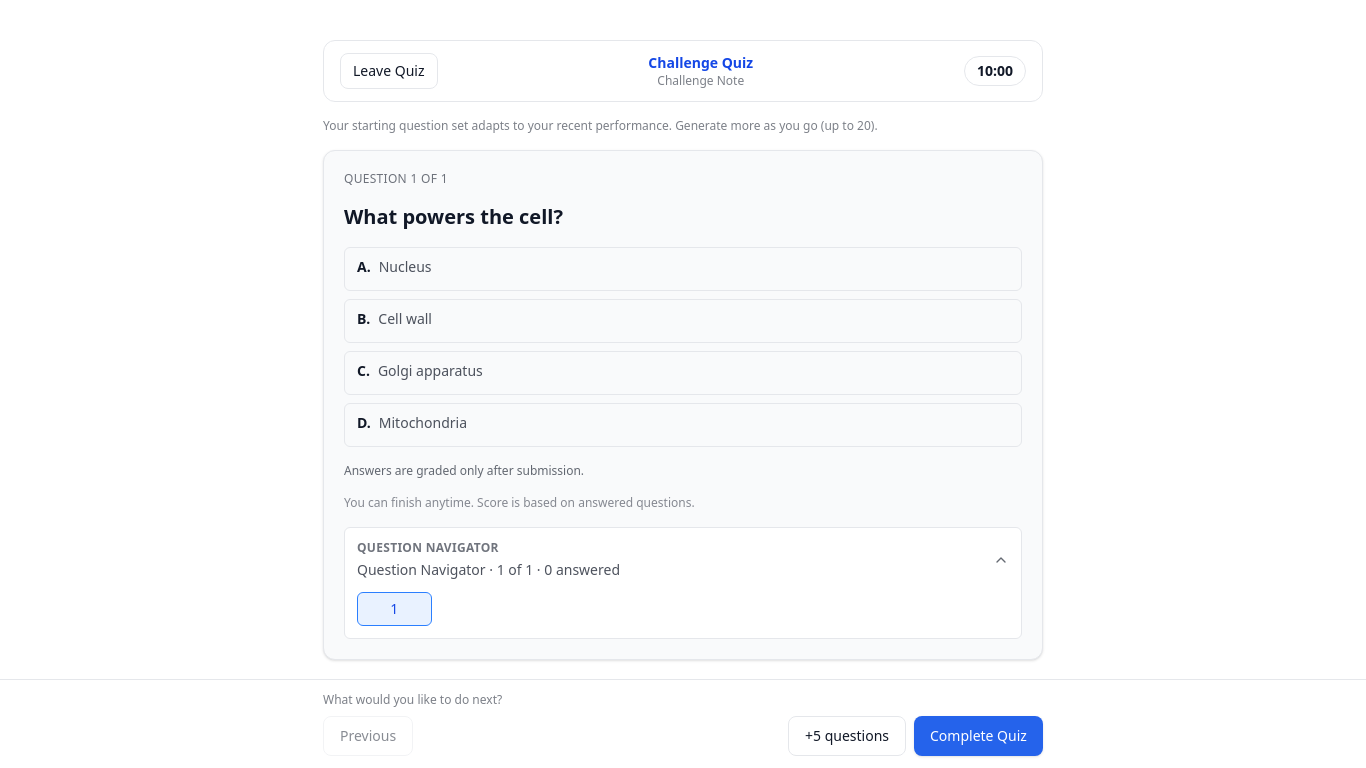
Test: ChallengeQuizPage › returns to setup when Complete reports SESSION_NOT_IN_PROGRESS
This screenshot has width=1366, height=768.
Click the button "D.Mitochondria": (423, 422) [344,403,1022,447]
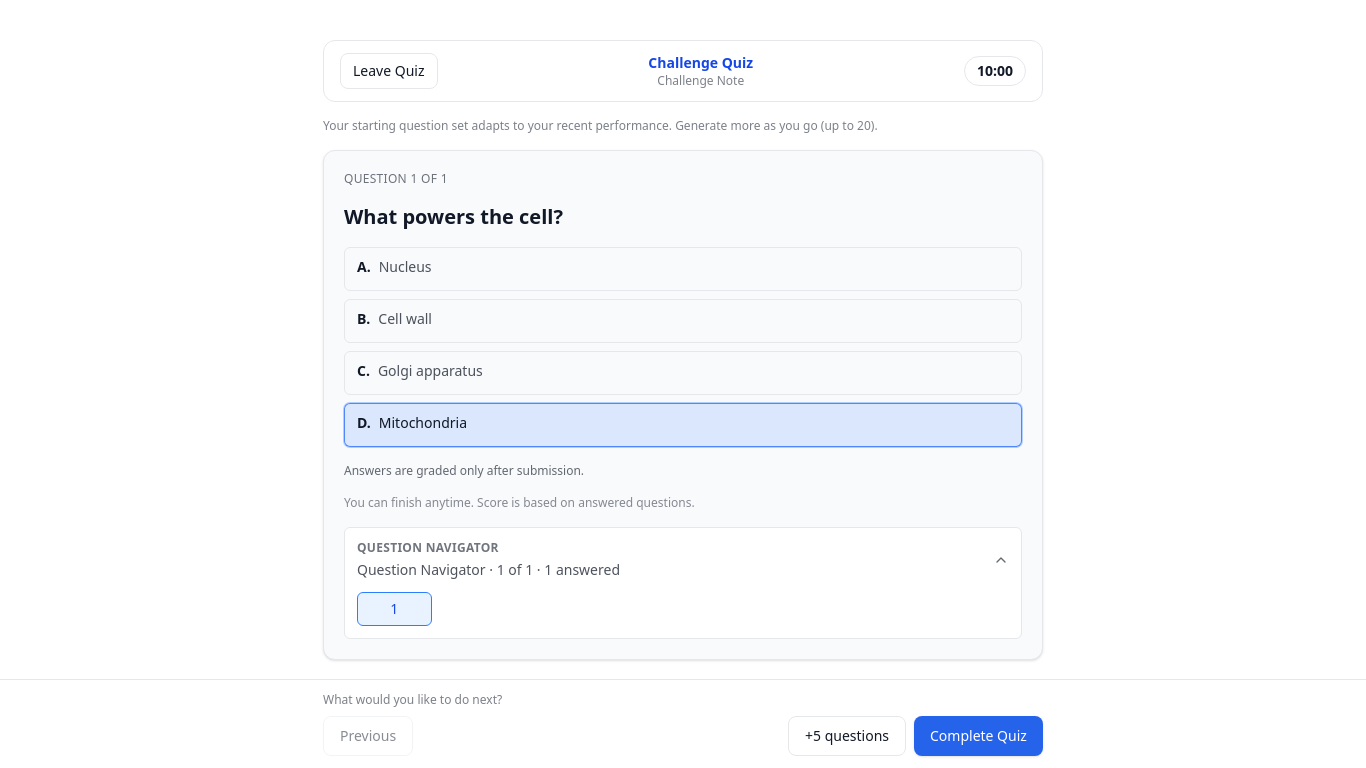
Click the button "Complete Quiz": (979, 736) [914,716,1043,756]
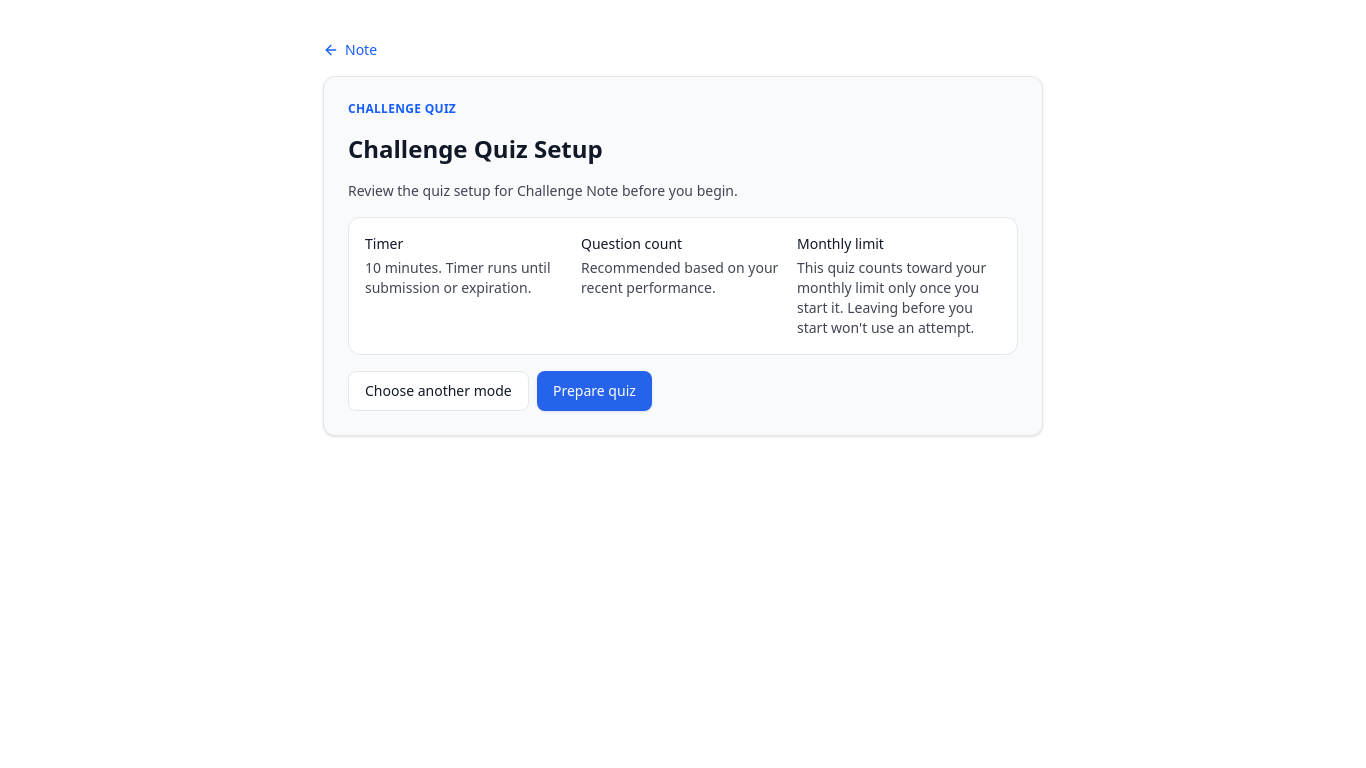
Check: the heading "Challenge Quiz Setup" is shown, box [348,132,603,165]
Check: the heading "What powers the cell?" is gone
